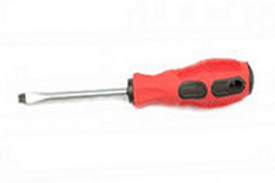screwdriver: (14, 52, 265, 118)
